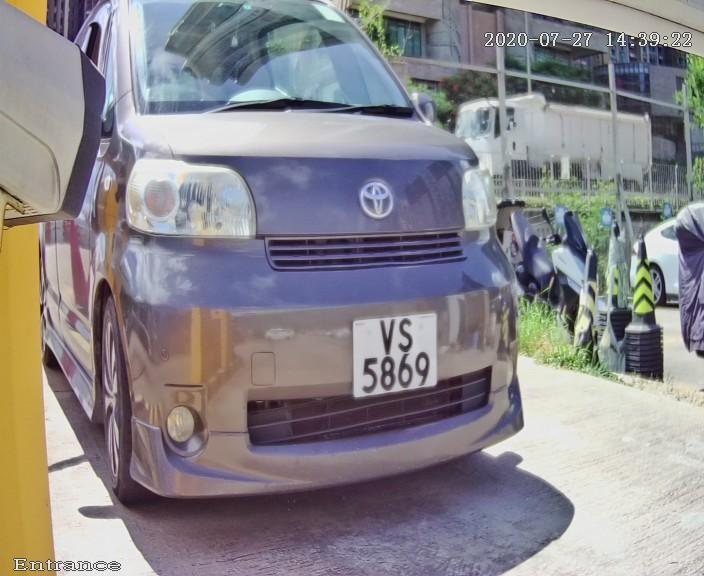privatecar: (48, 18, 569, 528)
